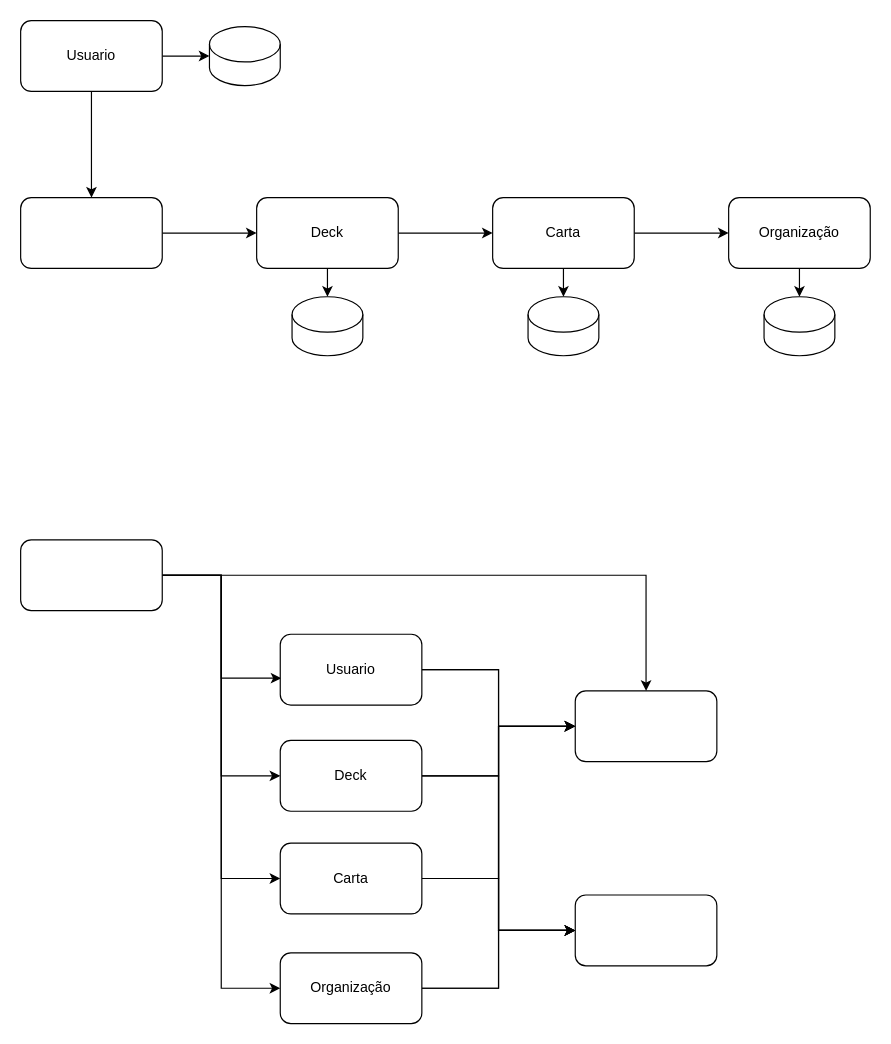
Image size: 891x1044. Some labels were removed from this diagram. Here are the shapes that lost their labels. From the top down, the box of each, then its label:
(19, 196, 162, 268): Jogador
(19, 539, 162, 611): API Gateway
(574, 690, 717, 762): Discovery Service
(574, 894, 717, 966): Config Server
